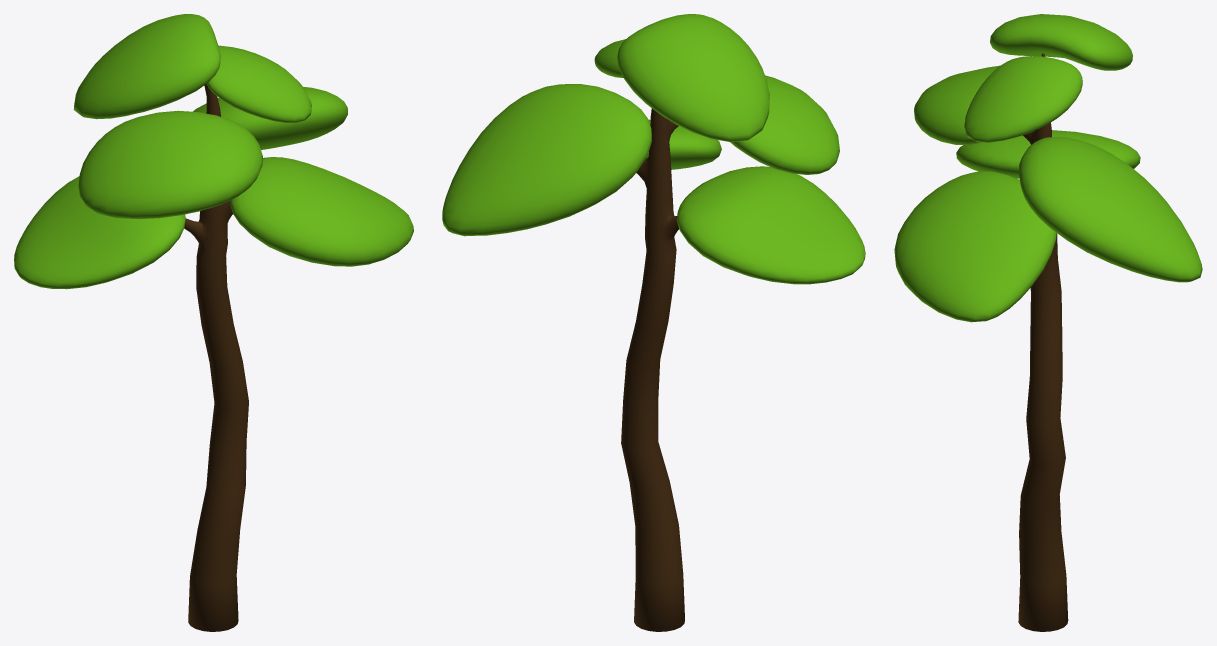
The model's file is Tree_3.FBX.
3 views of the same model, side by side, from view 1: azimuth 30°, elevation 25°; view 2: azimuth 150°, elevation 25°; view 3: azimuth 270°, elevation 25° (orthographic). The views are drawn at different scales.
Parts seen in each view (by area): view 1: A3, A3_Hojas3, A3_Hojas4, A3_Hojas2, A3_Hojas5, A3_Hojas6, A3_Hojas1; view 2: A3_Hojas1, A3, A3_Hojas2, A3_Hojas5, A3_Hojas3, A3_Hojas4, A3_Hojas6; view 3: A3_Hojas4, A3_Hojas1, A3, A3_Hojas6, A3_Hojas5, A3_Hojas3, A3_Hojas2.
Part boxes in pixels (<box>): A3: <box>184,84,248,631</box>; A3_Hojas3: <box>78,110,262,219</box>; A3_Hojas4: <box>230,157,413,266</box>; A3_Hojas2: <box>14,176,185,289</box>; A3_Hojas5: <box>73,14,220,119</box>; A3_Hojas6: <box>206,45,311,122</box>; A3_Hojas1: <box>193,87,347,149</box>; A3_Hojas1: <box>442,84,651,236</box>; A3: <box>621,108,684,631</box>; A3_Hojas2: <box>676,166,865,284</box>; A3_Hojas5: <box>617,14,769,142</box>; A3_Hojas3: <box>730,75,839,174</box>; A3_Hojas4: <box>646,119,721,169</box>; A3_Hojas6: <box>594,39,625,77</box>; A3_Hojas4: <box>894,171,1056,322</box>; A3_Hojas1: <box>1019,137,1202,282</box>; A3: <box>1018,53,1068,631</box>; A3_Hojas6: <box>964,56,1082,142</box>; A3_Hojas5: <box>990,14,1132,70</box>; A3_Hojas3: <box>914,65,999,145</box>; A3_Hojas2: <box>956,130,1140,178</box>.
Bounding box in the file's own units: 517 × 827 × 391.
